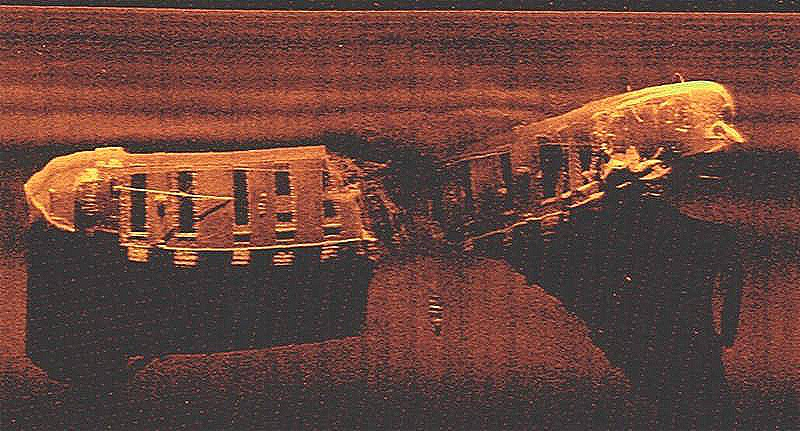ship: (22, 71, 748, 273)
